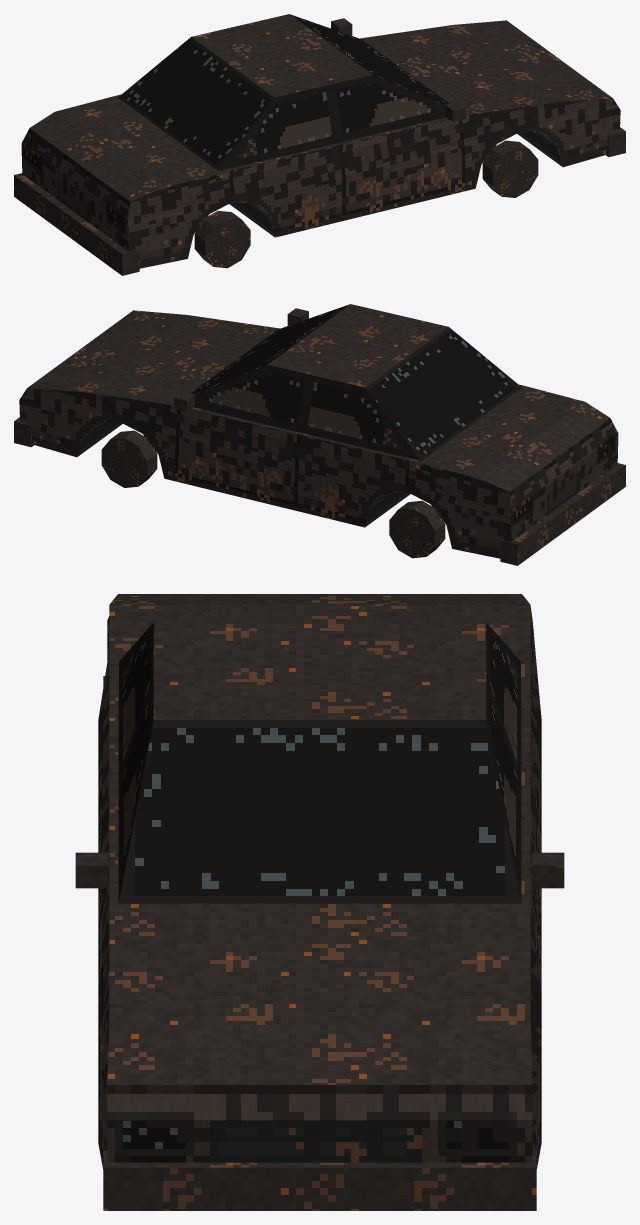
Rendered from burnt_car.gltf.
3 renders of one model, top to bottom at view 1: azimuth 30°, elevation 25°; view 2: azimuth 150°, elevation 25°; view 3: azimuth 270°, elevation 25°, orthographic. The views are drawn at different scales.
Parts seen in each view (by area): view 1: burnt_car; view 2: burnt_car; view 3: burnt_car.
Boxes of the visible parts, bbox=[...] form: burnt_car: bbox=[14, 14, 625, 275]; burnt_car: bbox=[14, 304, 625, 565]; burnt_car: bbox=[75, 594, 564, 1210].
Bounding box in the file's own units: 4.62 × 1.31 × 1.94.
4 materials, 4 textured.
